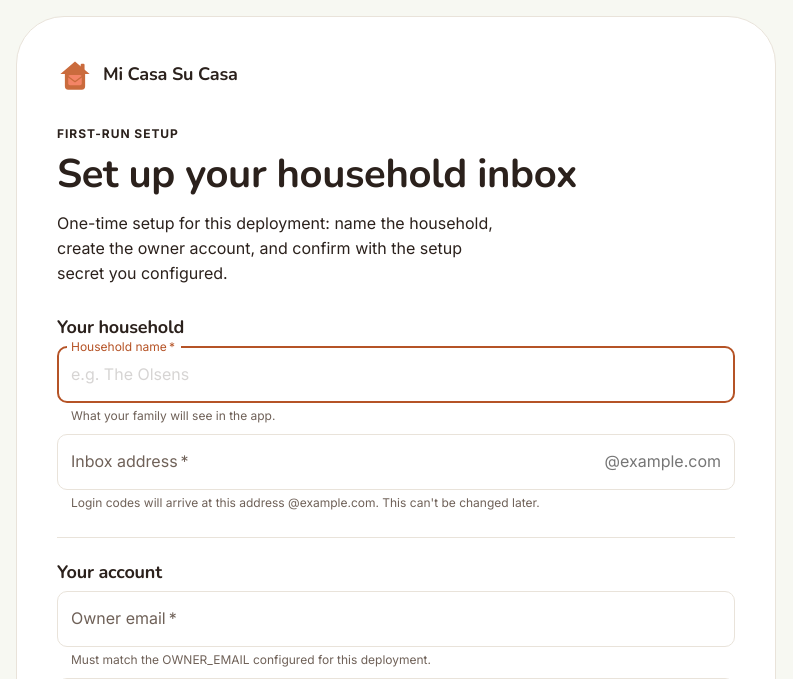
Test: SetupPage › groups the form, derives the address, and shows the password rule up front
The image size is (793, 679).
Expected: the heading "Your household" is shown, x1=57 y1=315 x2=184 y2=339
Expected: the heading "Your account" is shown, x1=57 y1=560 x2=162 y2=584
Type "Casa Ramírez" into the field labelled "Household name *".
click(396, 375); type("Casa Ramírez")  # box x1=57 y1=347 x2=735 y2=403
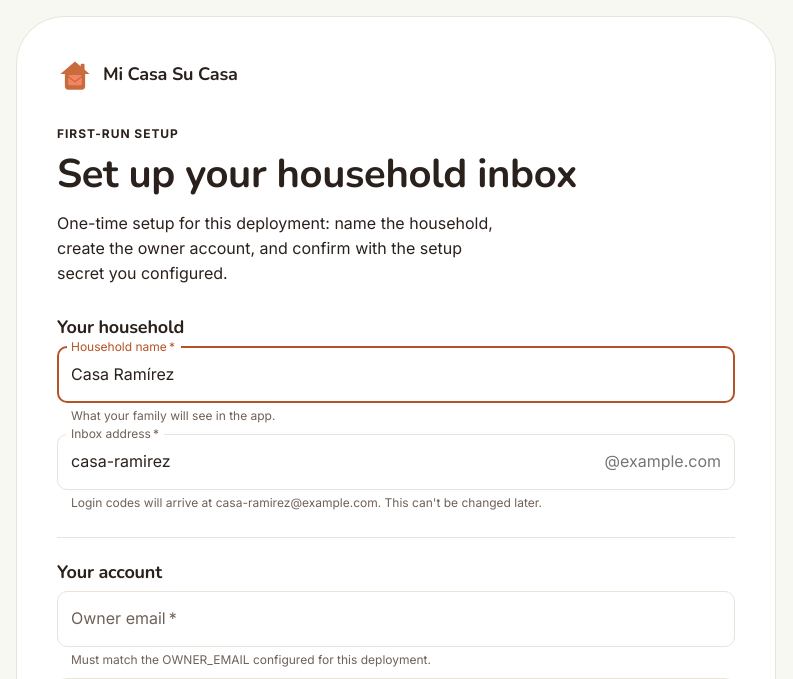
Expected: the field labelled "Inbox address *" holds "casa-ramirez", x1=57 y1=434 x2=596 y2=490
Expected: the text "casa-ramirez@example.com" is shown, x1=71 y1=495 x2=542 y2=510
